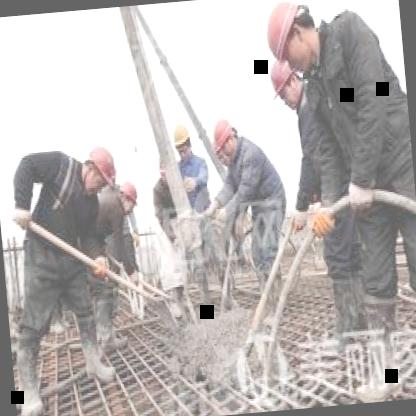helmet: (258, 0, 325, 78), (260, 54, 312, 114), (80, 141, 121, 200), (210, 113, 242, 165), (114, 178, 141, 216), (171, 117, 194, 159)
